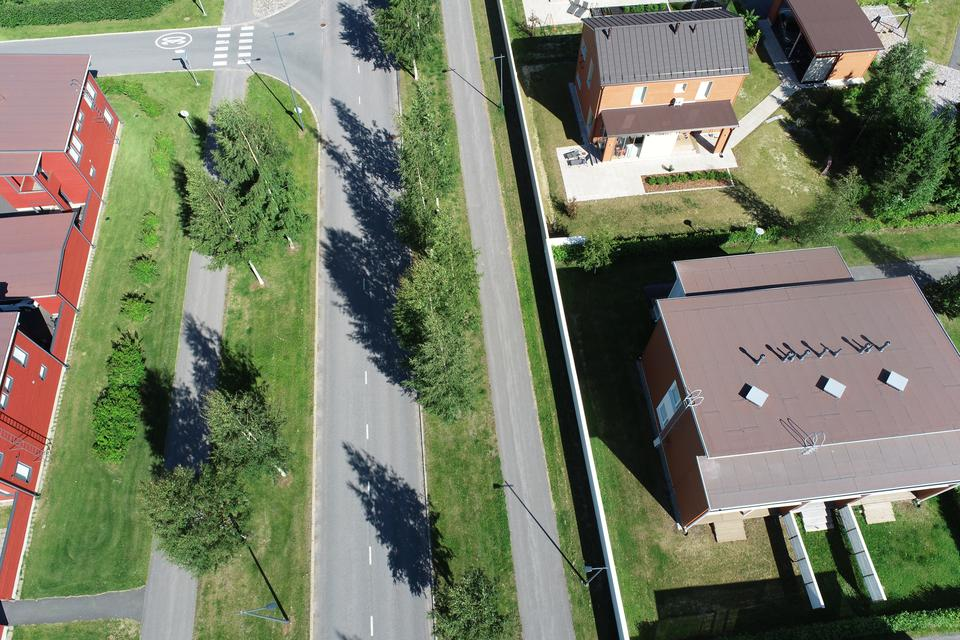intersection: (150, 0, 424, 122)
